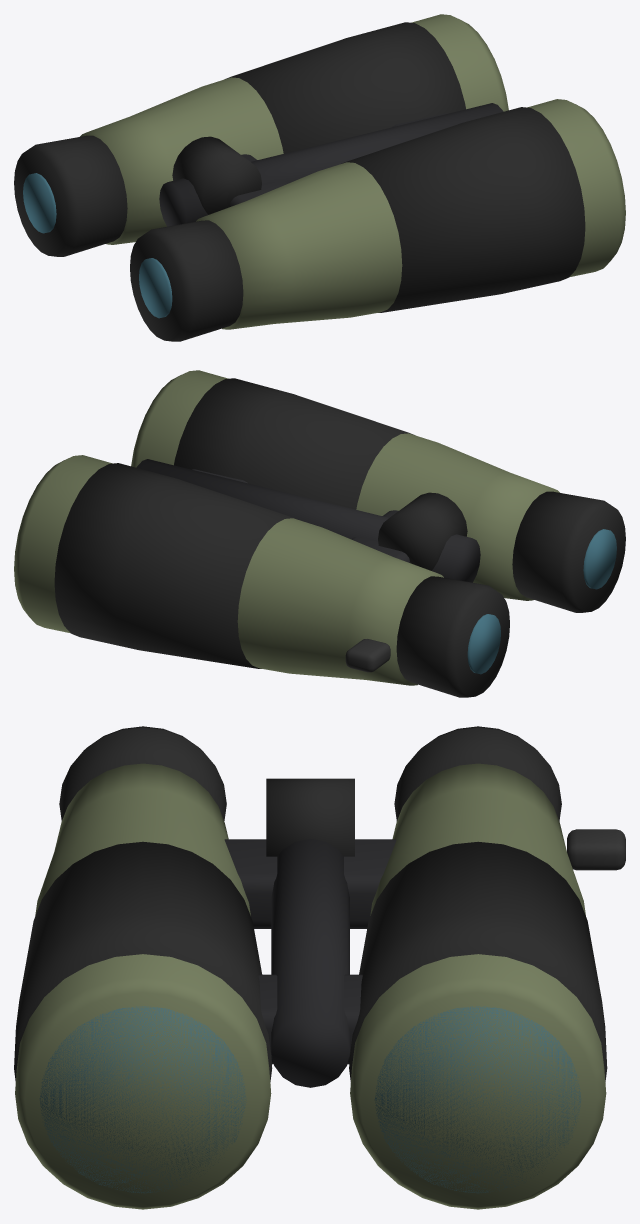
File: SM_Binoculars.glb
3 renders of one model, top to bottom at view 1: azimuth 30°, elevation 25°; view 2: azimuth 150°, elevation 25°; view 3: azimuth 270°, elevation 25°, orthographic. The views are drawn at different scales.
Parts seen in each view (by area): view 1: SM_Binoculars; view 2: SM_Binoculars; view 3: SM_Binoculars.
Boxes of the visible parts, x1,y1,x2,y2 form: SM_Binoculars: (14, 14, 625, 341); SM_Binoculars: (14, 370, 625, 697); SM_Binoculars: (14, 726, 625, 1209).
Bounding box in the file's own units: 0.146 × 0.0524 × 0.1242.
